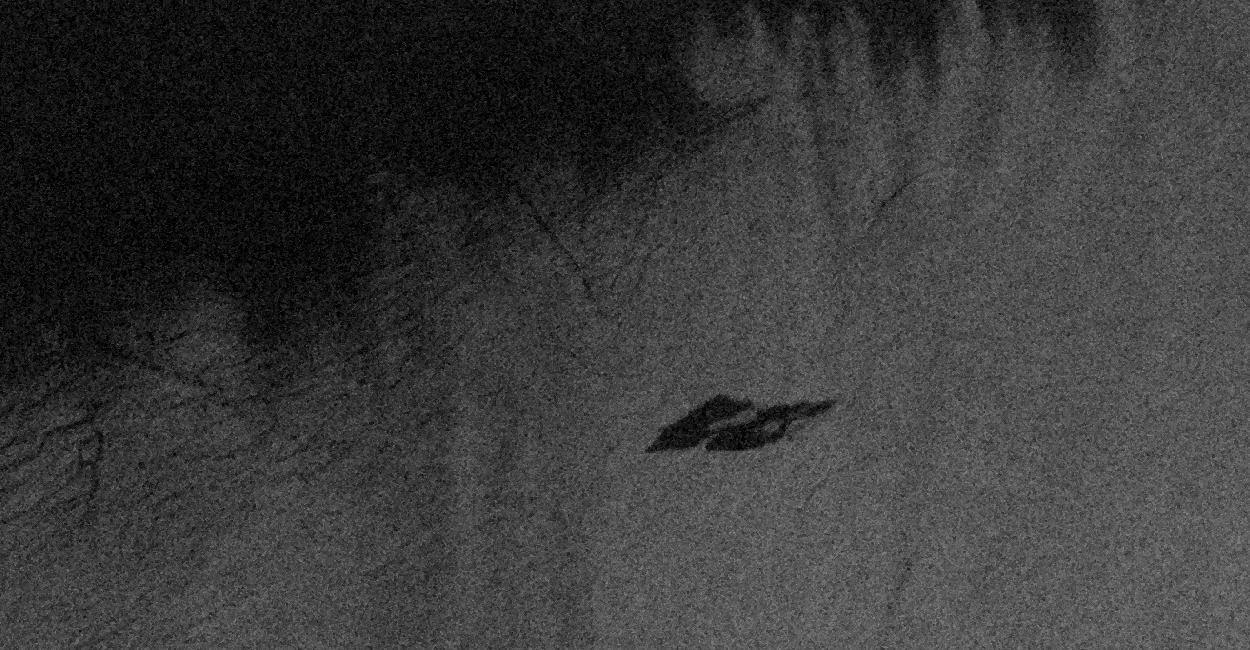Oil Spill: (644, 392, 838, 454), (736, 410, 754, 420), (764, 422, 778, 430), (710, 424, 715, 428), (730, 418, 733, 421)
